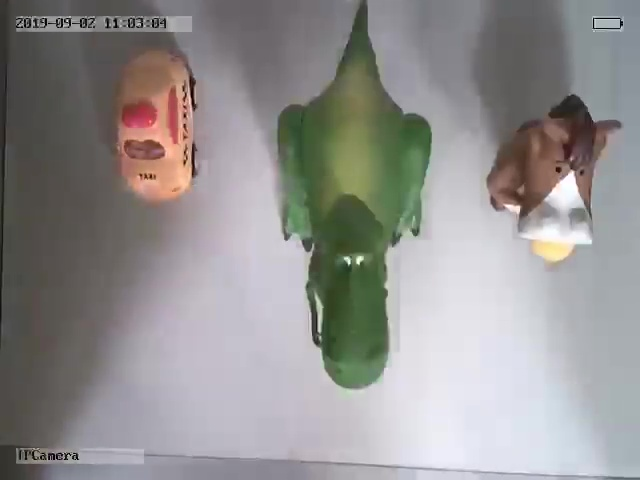car: (113, 49, 201, 202)
horse: (486, 93, 622, 263)
rex: (273, 2, 433, 388)
